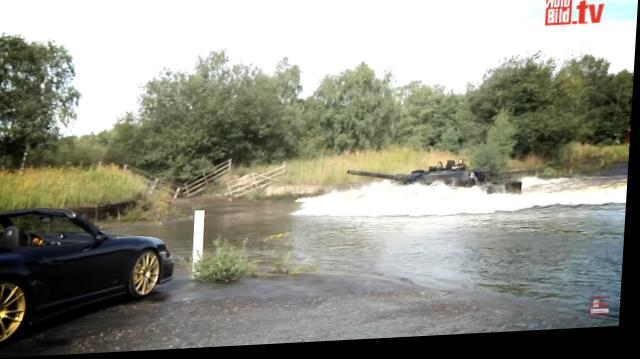tank: (395, 164, 524, 205)
